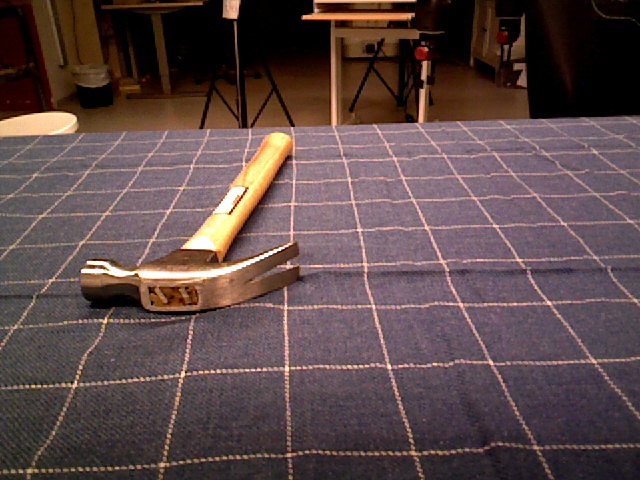hammer1: (81, 131, 302, 314)
